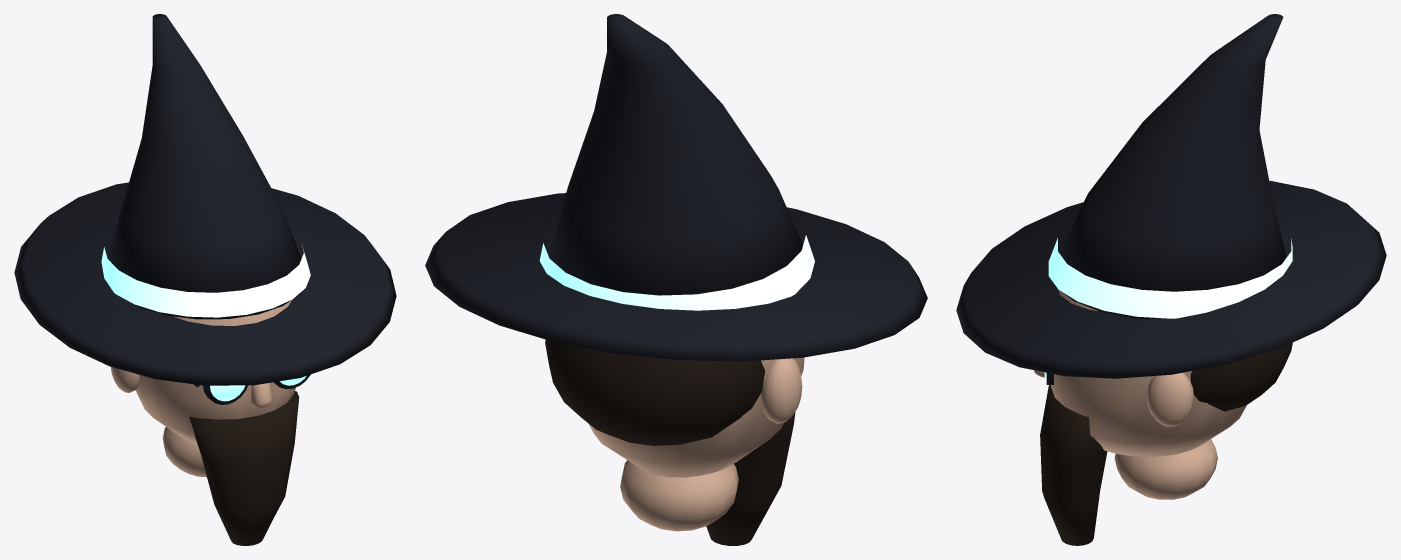
Rendered from coder_head_3.glb.
The picture shows the model from 3 angles, left to right: view 1: azimuth 30°, elevation 25°; view 2: azimuth 150°, elevation 25°; view 3: azimuth 270°, elevation 25°; orthographic projection. The views are drawn at different scales.
Visible parts, largest first — view 1: CoderPart; view 2: CoderPart; view 3: CoderPart.
Boxes of the visible parts, x1,y1,x2,y2 form: CoderPart: (14,14,396,545); CoderPart: (425,14,927,545); CoderPart: (956,14,1386,545).
Size of the model in its own units: 0.42 by 0.555 by 0.4159.
